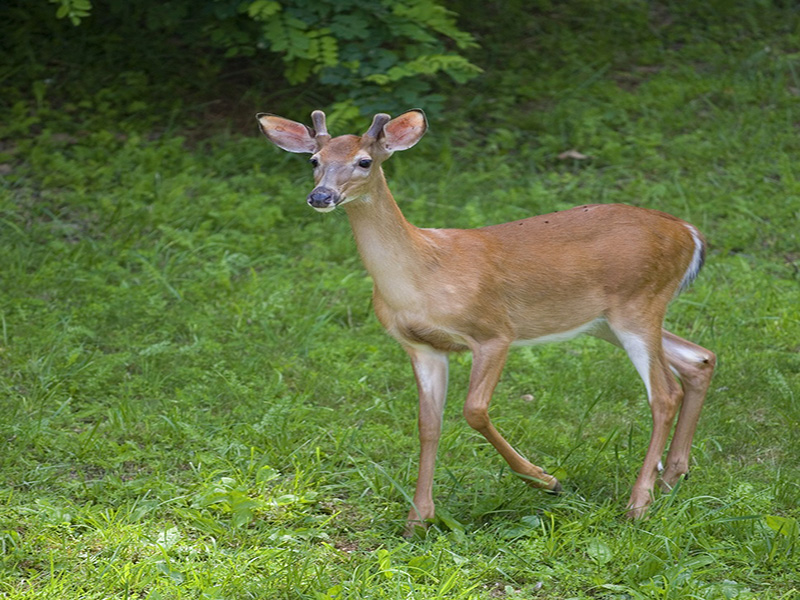cervo: (249, 87, 723, 550)
